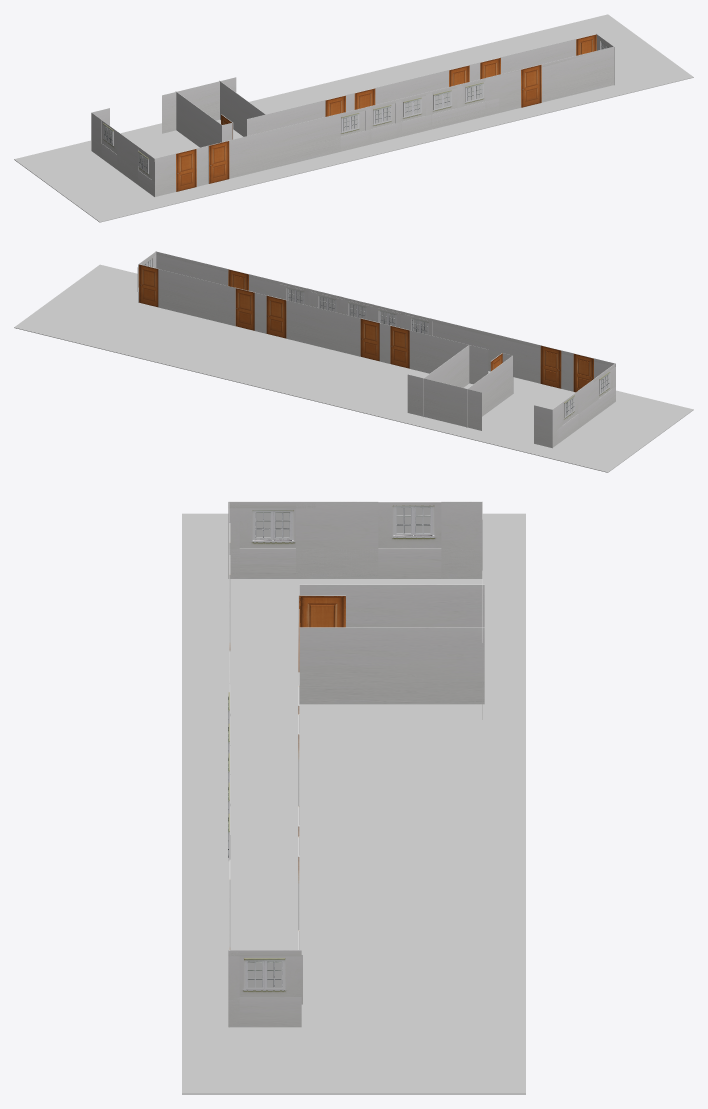
File: facility_corridor.fbx
3 views of the same model, one above another, from view 1: azimuth 30°, elevation 25°; view 2: azimuth 150°, elevation 25°; view 3: azimuth 270°, elevation 25° (orthographic). The views are drawn at different scales.
Visible parts, largest first — view 1: wall.003, floor, door.007, door, door.008, wall_with_window.003, wall_with_window, wall_with_window.001, wall_with_window.002, wall_with_window.004, door.004, wall_with_window.007 (+4 smaller); view 2: floor, wall.003, door.007, door.003, door.001, door.004, door.005, door.002, door.008, wall_with_window.004, wall_with_window.003, wall_with_window (+4 smaller); view 3: floor, wall.003, wall_with_window.007, wall_with_window.005, wall_with_window.006, door.006.
Boxes of the visible parts, <box> form: wall.003: <box>91,33,614,196</box>; floor: <box>14,14,693,222</box>; door.007: <box>208,141,229,183</box>; door: <box>521,64,541,107</box>; door.008: <box>176,148,196,191</box>; wall_with_window.003: <box>432,88,457,114</box>; wall_with_window: <box>340,110,364,136</box>; wall_with_window.001: <box>371,103,395,128</box>; wall_with_window.002: <box>401,96,425,121</box>; wall_with_window.004: <box>463,81,485,106</box>; door.004: <box>354,88,375,109</box>; wall_with_window.007: <box>102,120,117,154</box>; floor: <box>14,264,693,472</box>; wall.003: <box>138,251,615,448</box>; door.007: <box>540,345,561,388</box>; door.003: <box>266,295,286,338</box>; door.001: <box>138,264,159,307</box>; door.004: <box>360,318,380,361</box>; door.005: <box>390,325,409,368</box>; door.002: <box>235,288,254,330</box>; door.008: <box>573,353,593,392</box>; wall_with_window.004: <box>278,284,308,305</box>; wall_with_window.003: <box>311,291,340,313</box>; wall_with_window: <box>403,314,432,335</box>; floor: <box>182,513,525,1094</box>; wall.003: <box>228,501,484,1027</box>; wall_with_window.007: <box>378,502,441,548</box>; wall_with_window.005: <box>239,955,302,1004</box>; wall_with_window.006: <box>239,508,295,548</box>; door.006: <box>298,595,345,671</box>.
Size of the model in its own units: 3990 by 250 by 1000.
